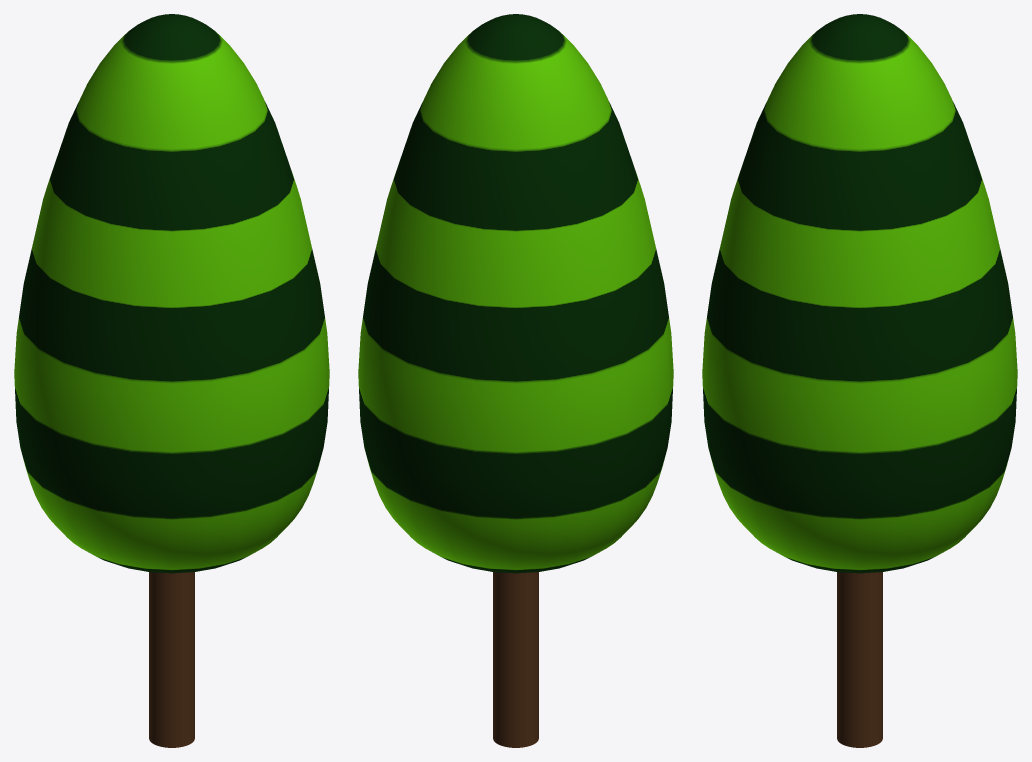
File: Mario Raceway Tree.dae
3 renders of one model, left to right at view 1: azimuth 30°, elevation 25°; view 2: azimuth 150°, elevation 25°; view 3: azimuth 270°, elevation 25°, orthographic.
Visible parts, largest first — view 1: Tree, Cylinder; view 2: Tree, Cylinder; view 3: Tree, Cylinder.
Part boxes in pixels (x1,y1,x2,y2): Tree: (14,14,329,573); Cylinder: (149,572,194,747); Tree: (358,14,673,573); Cylinder: (493,572,538,747); Tree: (702,14,1017,573); Cylinder: (837,572,882,747).
Bounding box in the file's own units: 34.33 × 86.35 × 34.33.
Materials: 2 (2 with a texture image).
